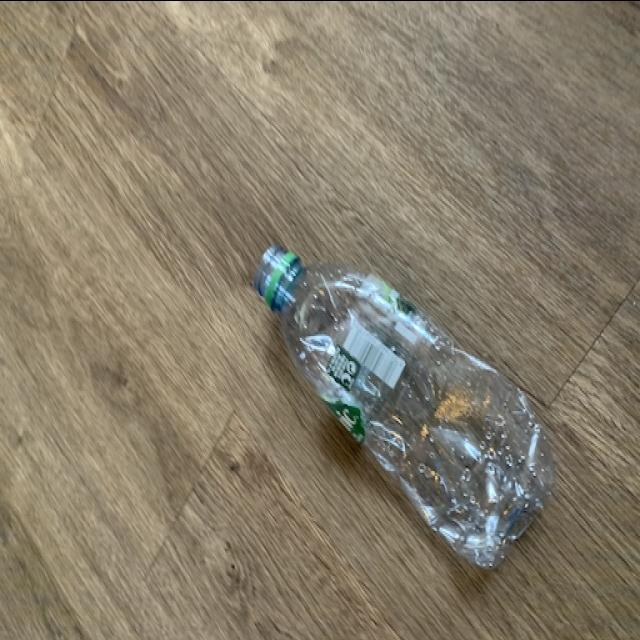PET: (251, 237, 559, 575)
